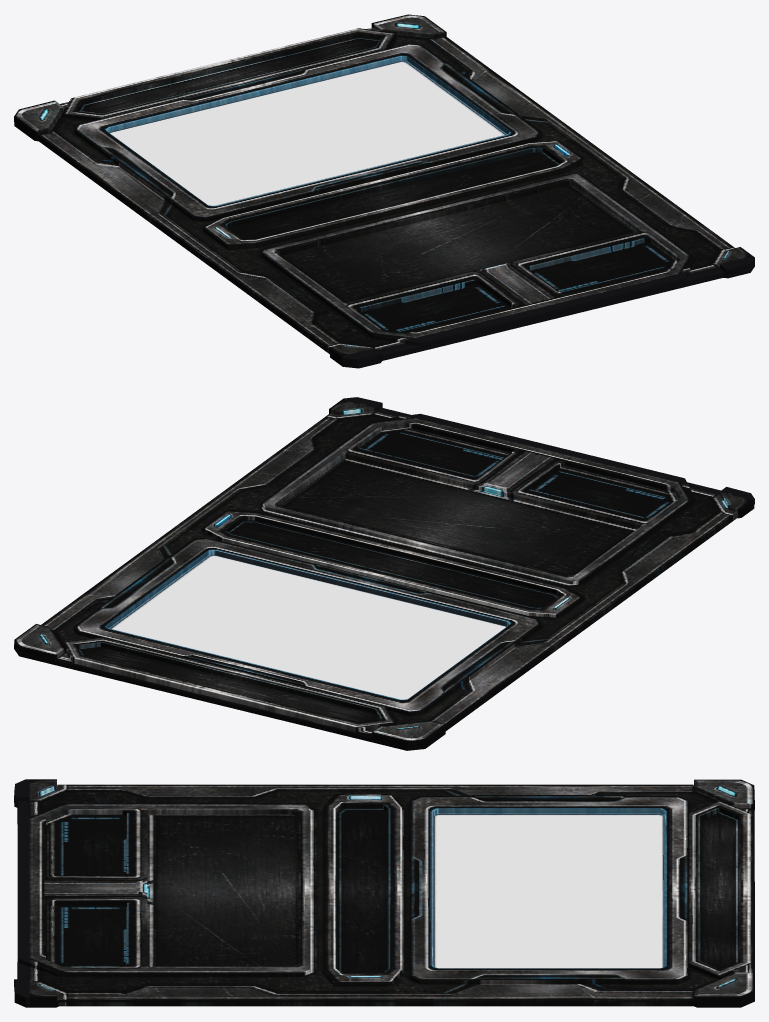
The model's file is Black.glb.
The picture shows the model from 3 angles, top to bottom: view 1: azimuth 30°, elevation 25°; view 2: azimuth 150°, elevation 25°; view 3: azimuth 270°, elevation 25°; orthographic projection. The views are drawn at different scales.
Visible parts, largest first — view 1: Card; view 2: Card; view 3: Card.
Part boxes in pixels (box(x1,y1,x2,y2)): Card: box(14, 14, 754, 368); Card: box(14, 397, 754, 750); Card: box(14, 779, 754, 1007).
Size of the model in its own units: 0.0636 by 0.00166 by 0.0912.
8 materials, 8 textured.
